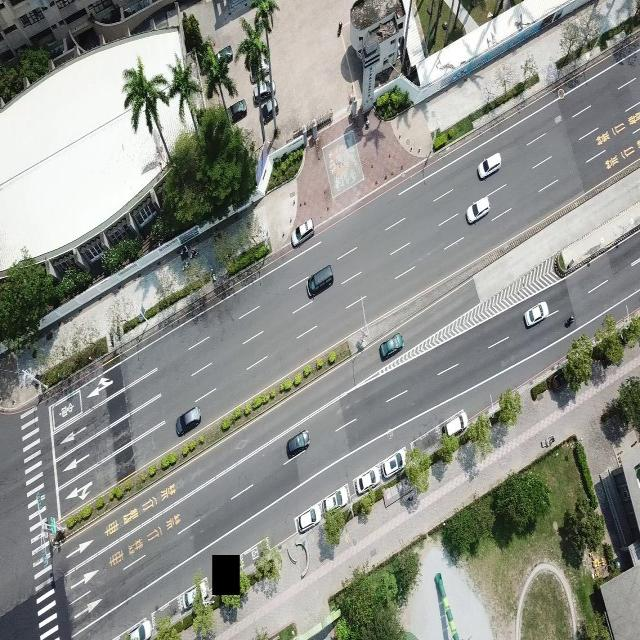car: (320, 484, 351, 518), (306, 264, 333, 298), (352, 464, 380, 495), (441, 409, 468, 441), (381, 446, 406, 480), (175, 405, 201, 437), (294, 504, 320, 534), (181, 579, 207, 609), (286, 429, 310, 459), (291, 217, 314, 248), (523, 301, 549, 328), (379, 331, 403, 360), (477, 152, 501, 180), (466, 196, 490, 224), (252, 79, 275, 104), (129, 617, 152, 640), (228, 98, 247, 123), (262, 96, 278, 123), (216, 44, 233, 63)
